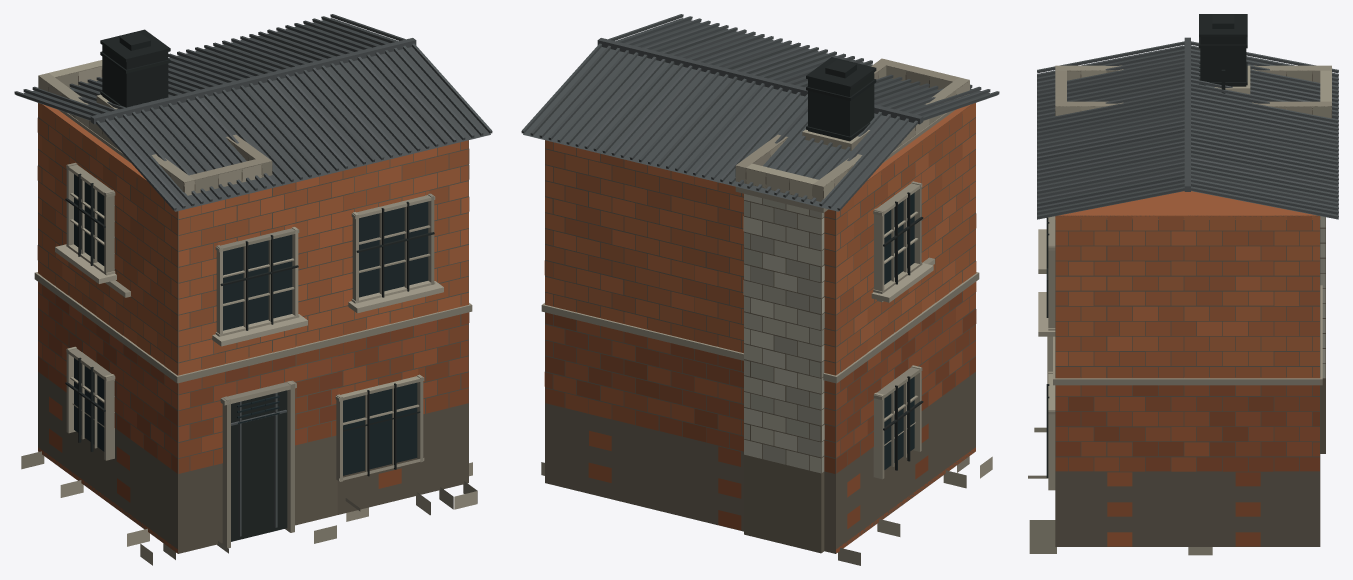
File: SM_StreetFrontage_102.fbx
The picture shows the model from 3 angles, left to right: view 1: azimuth 30°, elevation 25°; view 2: azimuth 150°, elevation 25°; view 3: azimuth 270°, elevation 25°; orthographic projection. The views are drawn at different scales.
Parts seen in each view (by area): view 1: SM_StreetFrontage_102; view 2: SM_StreetFrontage_102; view 3: SM_StreetFrontage_102.
Boxes of the visible parts, <box> form: SM_StreetFrontage_102: <box>14,14,492,565</box>; SM_StreetFrontage_102: <box>521,14,999,565</box>; SM_StreetFrontage_102: <box>1028,14,1338,555</box>.
Bounding box in the file's own units: 7.91 × 6.77 × 10.2.
